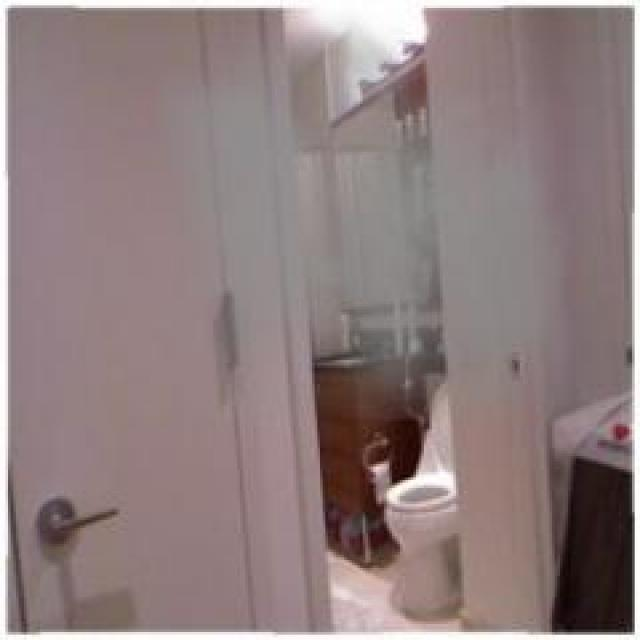Smoke: (159, 0, 575, 421)
